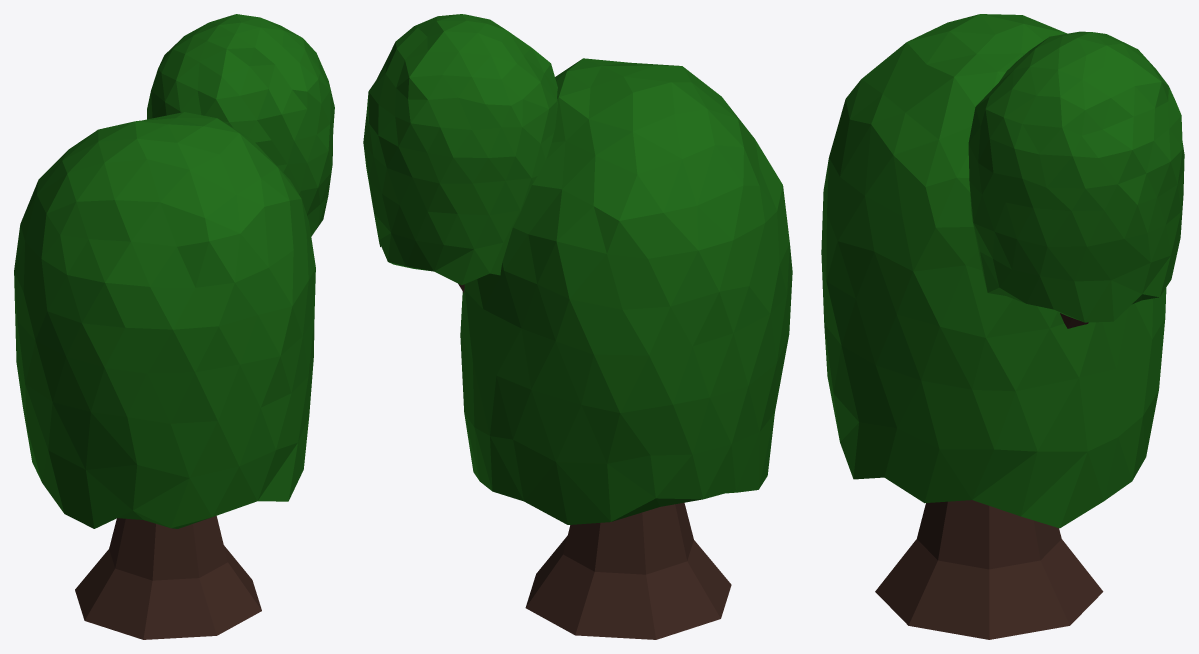
The model's file is BigTree_02.fbx.
3 views of the same model, side by side, from view 1: azimuth 30°, elevation 25°; view 2: azimuth 150°, elevation 25°; view 3: azimuth 270°, elevation 25° (orthographic). The views are drawn at different scales.
Parts seen in each view (by area): view 1: Circle.001; view 2: Circle.001; view 3: Circle.001.
Boxes of the visible parts, x1=… form: Circle.001: x1=14, y1=14, x2=334, y2=639; Circle.001: x1=363, y1=14, x2=792, y2=639; Circle.001: x1=821, y1=14, x2=1184, y2=639.
Bounding box in the file's own units: 658 × 1025 × 547.
